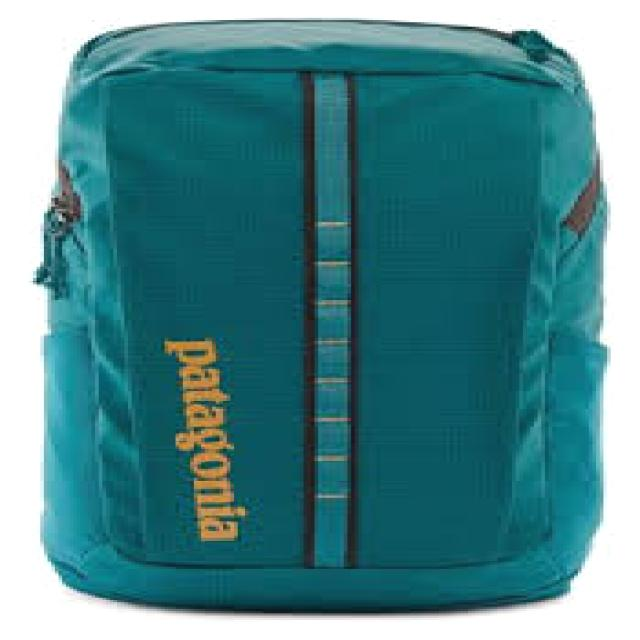backpack: (34, 17, 612, 613)
